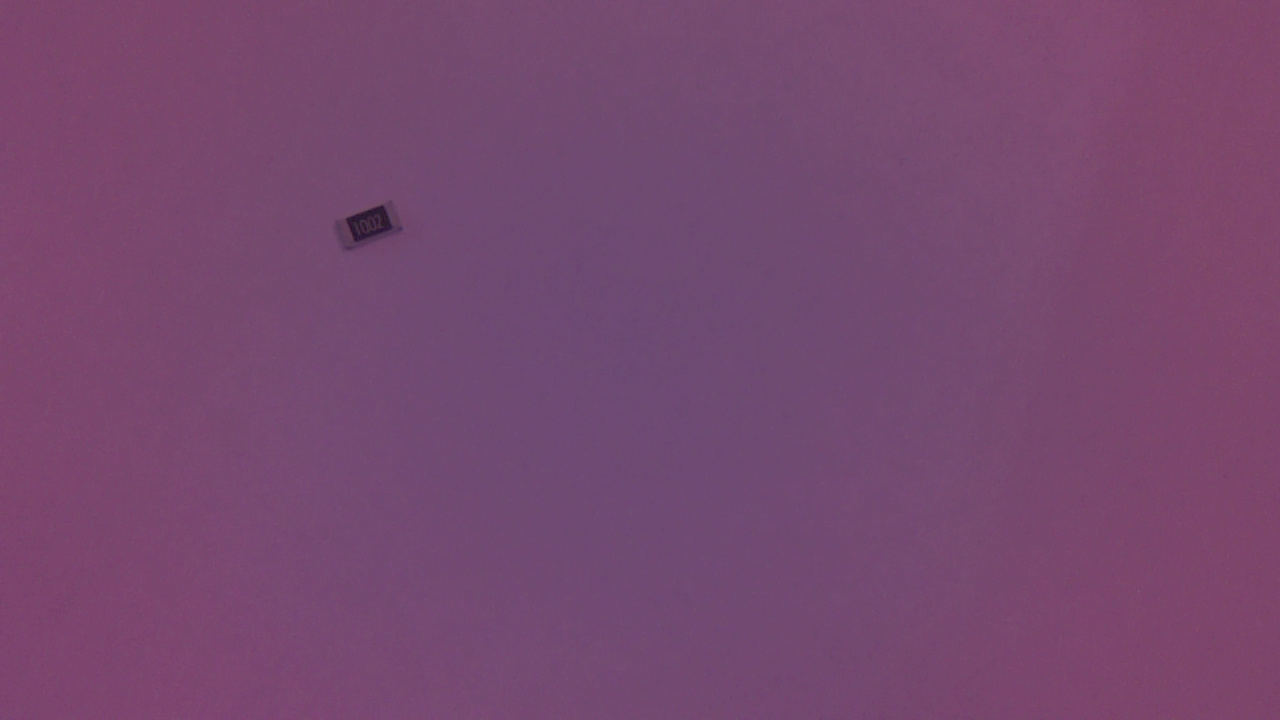Resistor: (334, 201, 415, 257)
